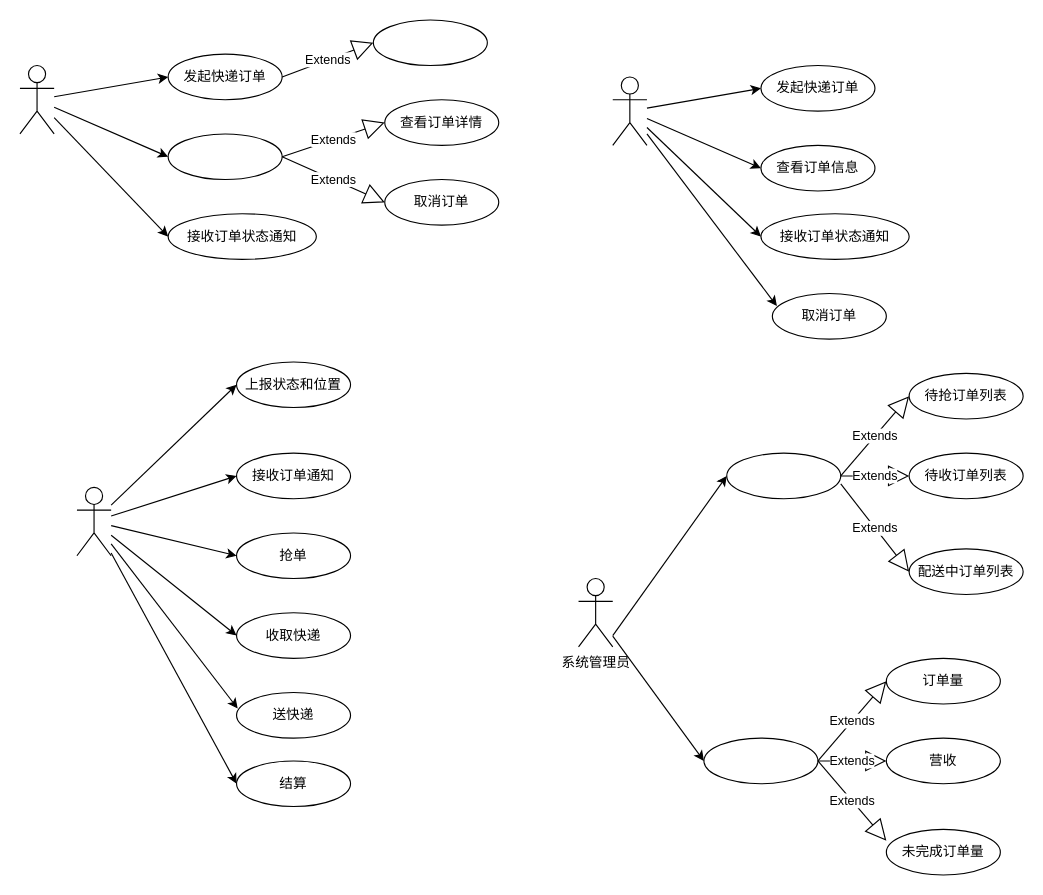
Image size: 1043x895. Some labels were removed from this diagram. Here are the shapes that lost their labels. From the top down, the centre of each, then its label:
At point (429, 42): "支付".
At point (36, 99): "用户".
At point (629, 110): "饿了么".
At point (224, 156): "查看订单列表".
At point (783, 475): "查看实时订单".
At point (93, 521): "快递员".
At point (760, 760): "查看按天统计".
